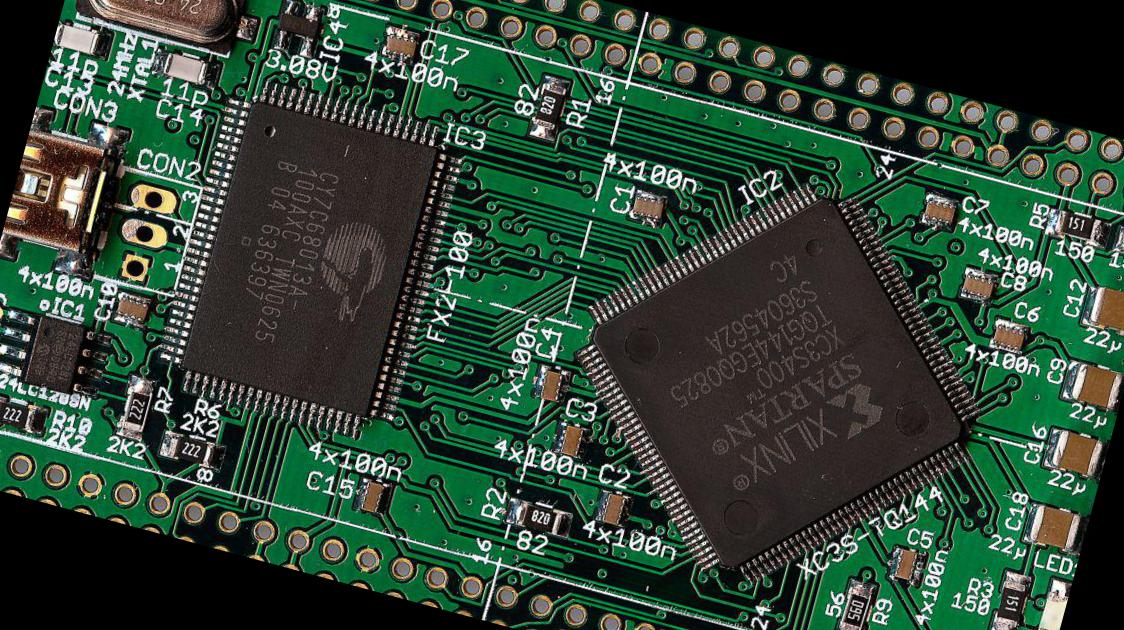Capacitor: (1058, 356, 1123, 417), (1020, 500, 1089, 556), (1040, 426, 1109, 480), (150, 44, 222, 86), (1078, 281, 1123, 340), (52, 19, 115, 60), (351, 474, 396, 518), (626, 186, 669, 228), (380, 23, 422, 63), (532, 361, 572, 403), (886, 544, 926, 584), (988, 316, 1030, 354), (552, 419, 591, 458), (920, 190, 958, 230), (593, 487, 631, 527), (958, 265, 996, 303), (112, 292, 153, 326)
Clock: (71, 0, 245, 55)
Connector: (82, 0, 1123, 225), (0, 418, 1038, 629), (2, 129, 122, 258), (92, 166, 200, 295), (0, 292, 8, 367)
IC: (528, 133, 1029, 629), (149, 70, 469, 446), (0, 305, 114, 400), (269, 0, 325, 58)
Led: (1031, 574, 1073, 629)
Resistor Network: (526, 72, 572, 144), (1044, 204, 1112, 249), (503, 494, 574, 536), (114, 374, 157, 441), (157, 428, 226, 469), (989, 569, 1035, 629), (832, 576, 878, 629), (0, 391, 51, 435), (1110, 222, 1123, 265)
